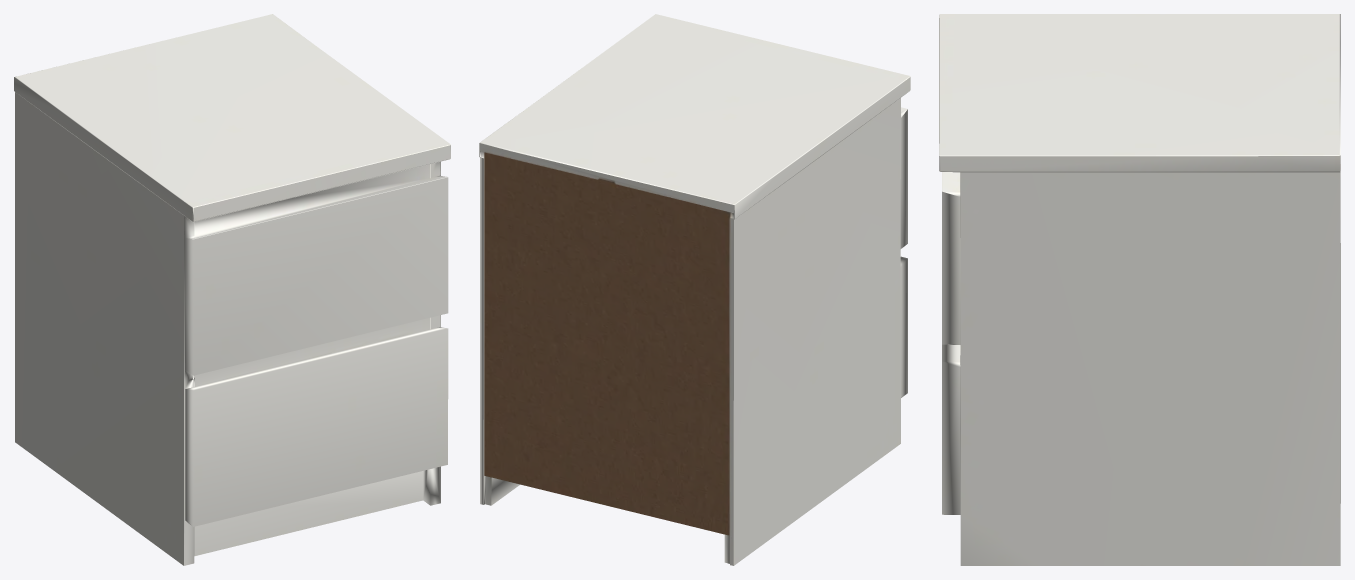
The picture shows the model from 3 angles, left to right: view 1: azimuth 30°, elevation 25°; view 2: azimuth 150°, elevation 25°; view 3: azimuth 270°, elevation 25°; orthographic projection. The views are drawn at different scales.
Visible parts, largest first — view 1: ProcessedMeshNode; view 2: ProcessedMeshNode; view 3: ProcessedMeshNode.
Boxes of the visible parts, bbox=[...] form: ProcessedMeshNode: bbox=[14, 14, 450, 565]; ProcessedMeshNode: bbox=[479, 14, 910, 565]; ProcessedMeshNode: bbox=[939, 14, 1340, 565].
Bounding box in the file's own units: 0.4033 × 0.5448 × 0.4823.
1 material, 1 textured.
